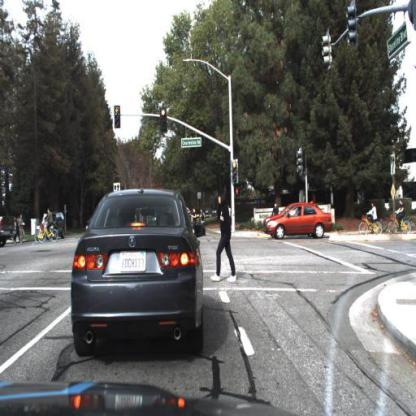biker: (35, 206, 62, 247), (387, 198, 415, 237), (359, 200, 385, 240), (38, 207, 61, 246), (34, 213, 54, 246)
car: (70, 187, 207, 358), (262, 204, 333, 241), (264, 204, 327, 225), (34, 209, 69, 243)
pedestrian: (209, 181, 240, 289), (16, 215, 24, 247), (273, 201, 281, 227), (19, 214, 26, 243), (186, 204, 192, 229), (200, 208, 207, 229), (193, 206, 198, 231)
trafficLight-Red: (231, 158, 240, 185), (159, 106, 167, 135)
trafficLight-RedLeft: (114, 103, 122, 129)
